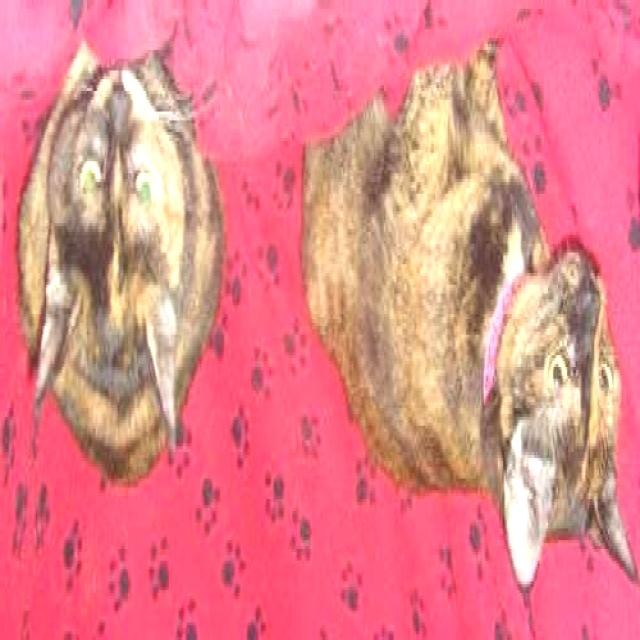Kucing: (262, 24, 640, 615), (2, 41, 230, 501)
